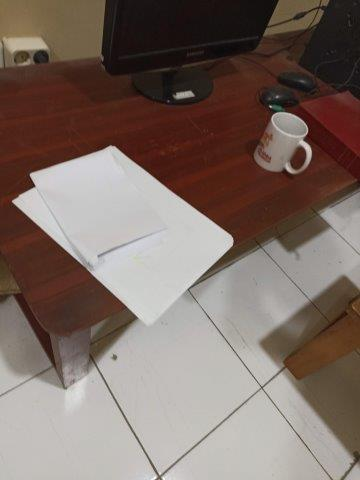kertas: (13, 145, 233, 324)
